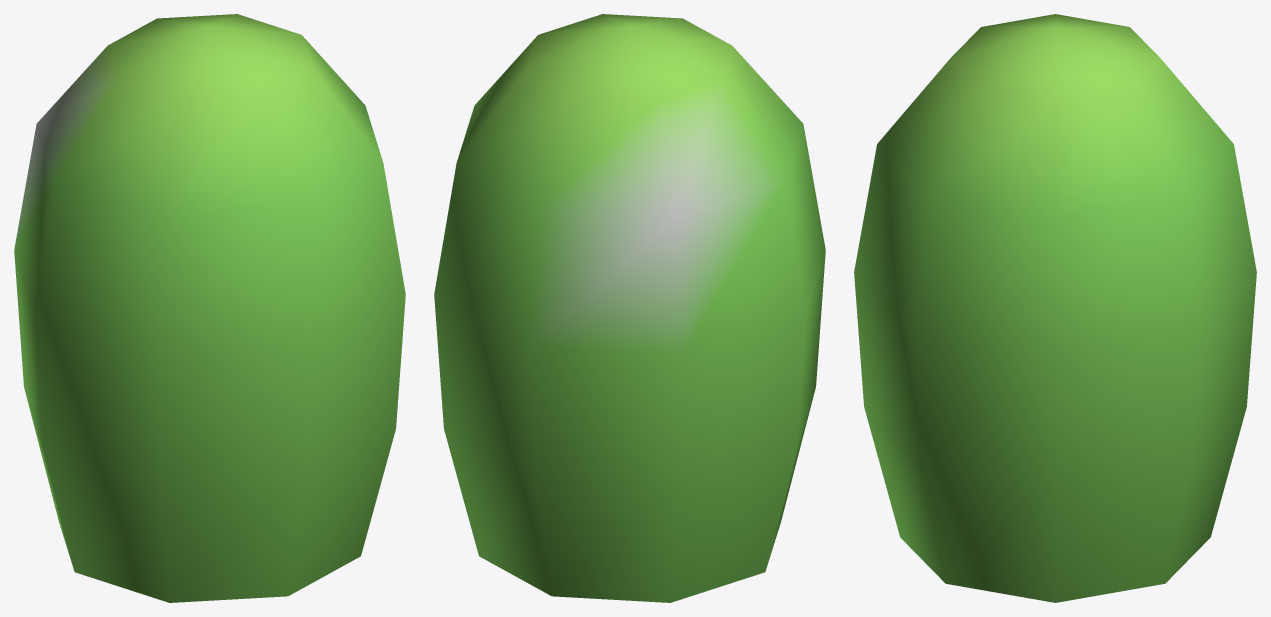
Rendered from CrateCoProxyTarget_LightOn.glb.
3 renders of one model, left to right at view 1: azimuth 30°, elevation 25°; view 2: azimuth 150°, elevation 25°; view 3: azimuth 270°, elevation 25°, orthographic.
Parts seen in each view (by area): view 1: CrateCoProxyTarget_LightOn; view 2: CrateCoProxyTarget_LightOn; view 3: CrateCoProxyTarget_LightOn.
Boxes of the visible parts, bbox=[...] form: CrateCoProxyTarget_LightOn: bbox=[14, 14, 405, 602]; CrateCoProxyTarget_LightOn: bbox=[434, 14, 825, 602]; CrateCoProxyTarget_LightOn: bbox=[854, 14, 1256, 602].
Size of the model in its own units: 0.2555 by 0.3561 by 0.2555.
